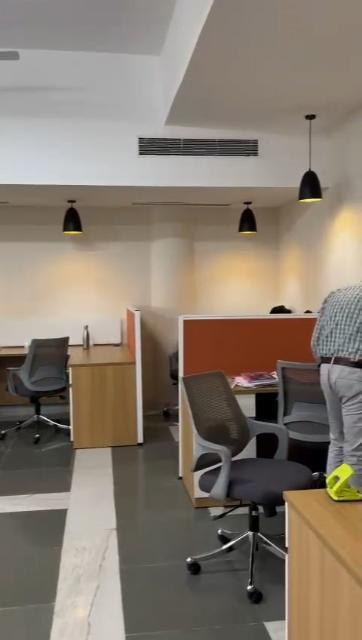floor: (0, 458, 178, 640)
moving-obj: (316, 260, 362, 512)
object: (168, 369, 292, 597), (4, 338, 78, 449), (249, 356, 327, 458), (80, 319, 96, 349)
wall: (4, 240, 361, 290)
